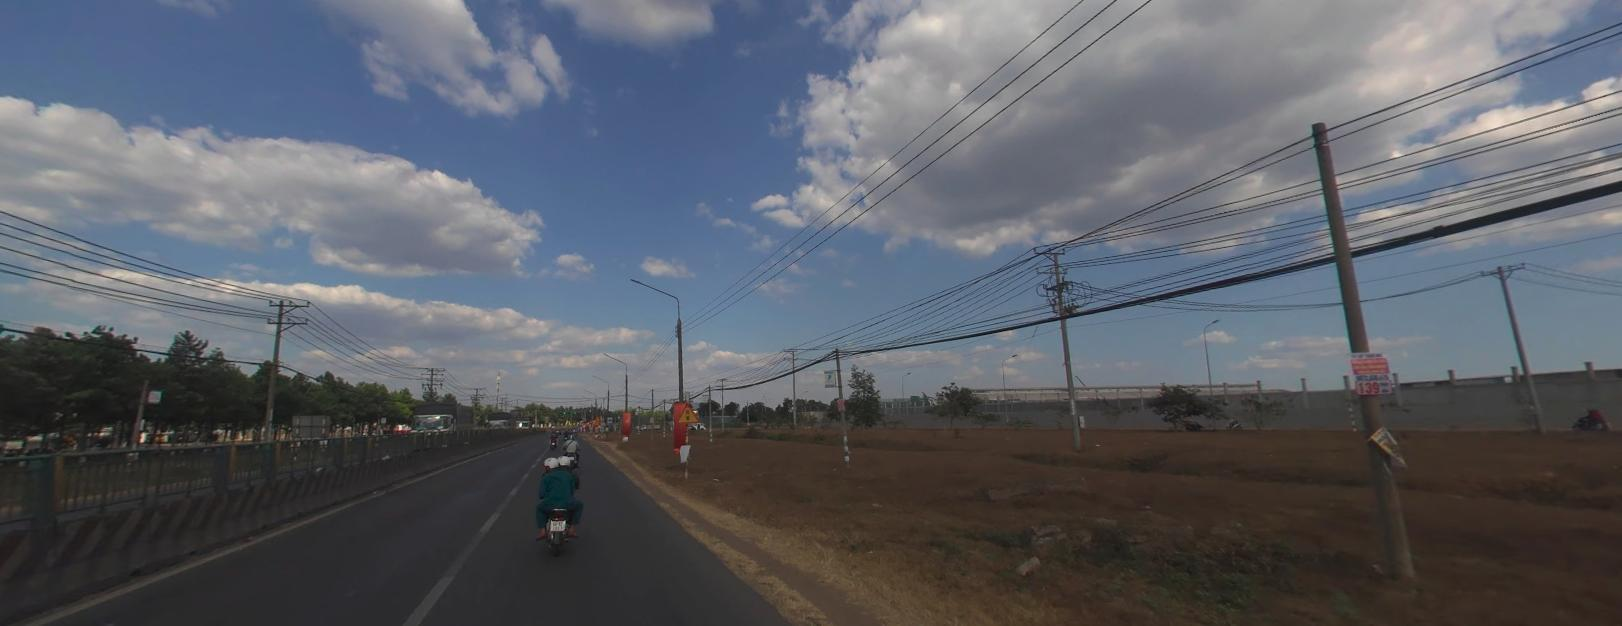Nguy hiem: (677, 401, 699, 421)
